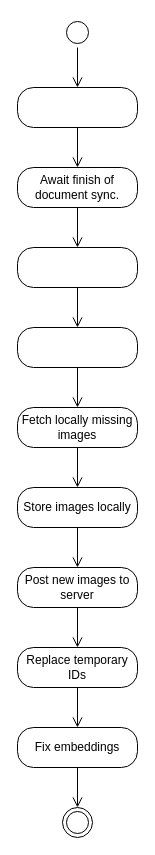
Image size: 155x855. Some labels were removed from this diagram. The shapes that lost their labels are listed below. From the top down, each one's centre as x and y in pixels, then its label:
At point (77, 107): "useImages mounted".
At point (77, 267): "Load embedded image IDs".
At point (77, 347): "Load server image IDs".
